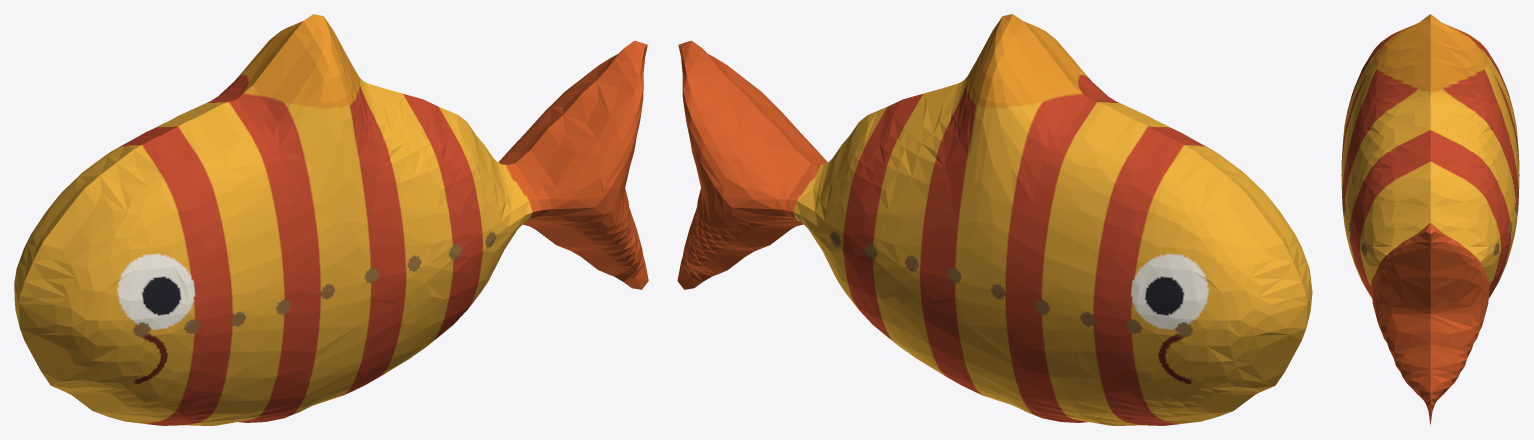
The model's file is fish_lo.glb.
The picture shows the model from 3 angles, left to right: view 1: azimuth 30°, elevation 25°; view 2: azimuth 150°, elevation 25°; view 3: azimuth 270°, elevation 25°; orthographic projection. The views are drawn at different scales.
Visible parts, largest first — view 1: world; view 2: world; view 3: world.
Part boxes in pixels (x1,y1,x2,y2): world: [14, 14, 648, 425]; world: [677, 14, 1312, 425]; world: [1341, 14, 1519, 425].
Size of the model in its own units: 0.3347 by 0.2 by 0.1028.
Materials: 1 (1 with a texture image).
